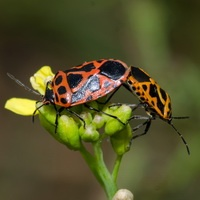insect: (5, 59, 189, 153), (122, 66, 189, 154), (30, 59, 129, 106), (107, 85, 140, 106)
